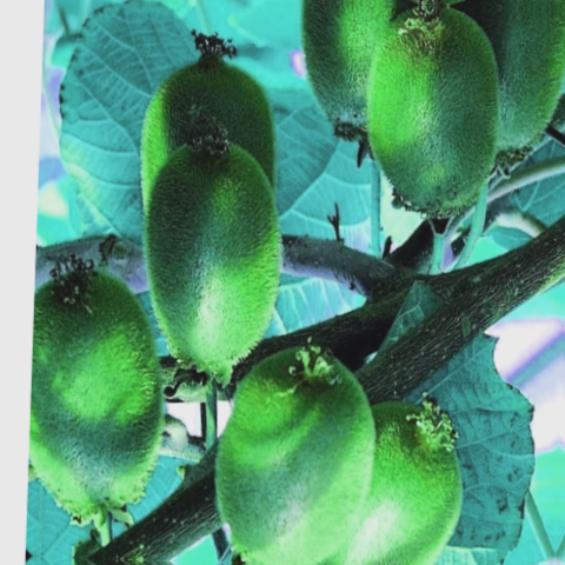kiwi: (0, 232, 190, 522), (120, 126, 307, 393), (178, 343, 381, 565), (351, 4, 519, 222)
